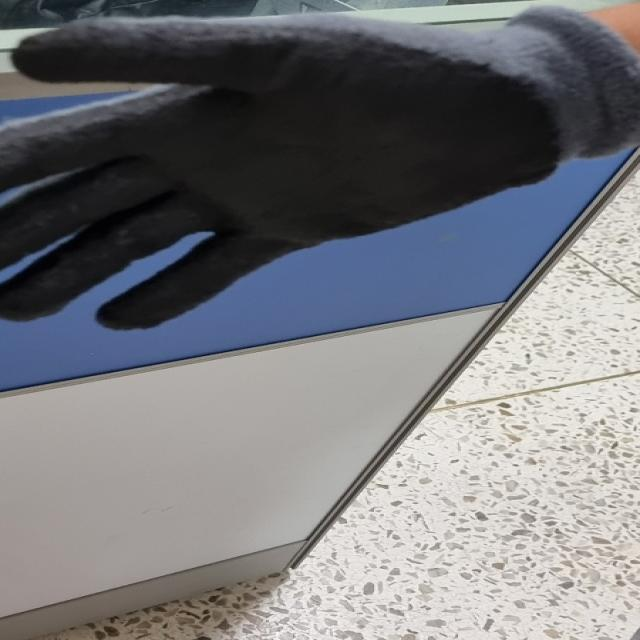Gloves: (0, 11, 590, 330)
